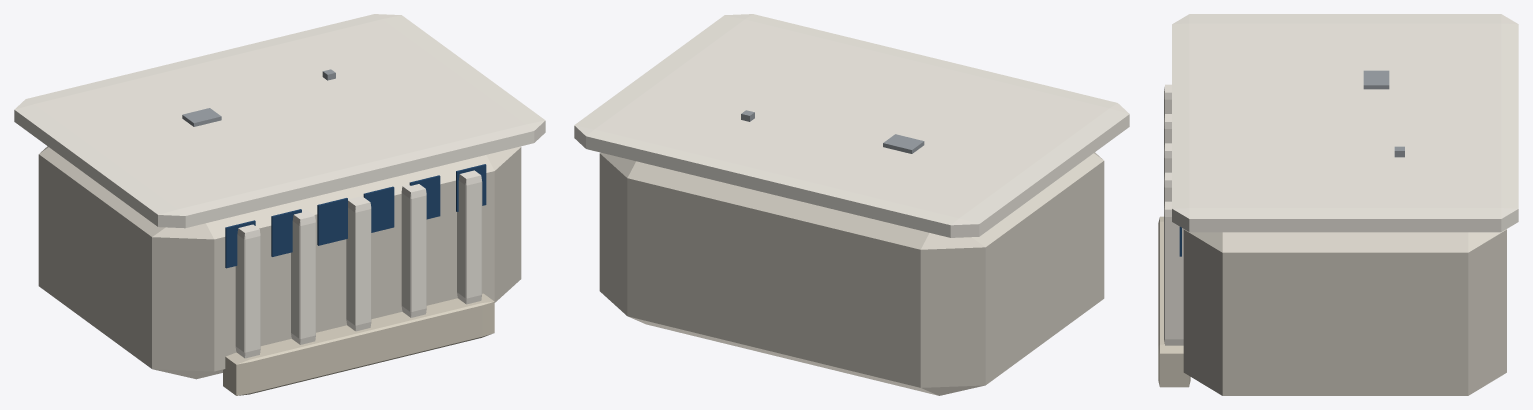
Rendered from library.glb.
3 views of the same model, side by side, from view 1: azimuth 30°, elevation 25°; view 2: azimuth 150°, elevation 25°; view 3: azimuth 270°, elevation 25° (orthographic). The views are drawn at different scales.
Visible parts, largest first — view 1: cornice, walls, steps, col.15228, col.15229, col.15227, col.15225, col.15226, win.002, win.003, win.001, win.004 (+3 smaller); view 2: walls, cornice, hvac; view 3: cornice, walls, col.15229, steps, hvac.
Part boxes in pixels (left/top/right/bottom): cornice: left=14, top=14, right=545, bottom=228; walls: left=38, top=146, right=521, bottom=379; steps: left=223, top=293, right=494, bottom=395; col.15228: left=401, top=184, right=426, bottom=317; col.15229: left=457, top=170, right=482, bottom=304; col.15227: left=346, top=196, right=371, bottom=331; col.15225: left=235, top=224, right=260, bottom=358; col.15226: left=291, top=209, right=315, bottom=344; win.002: left=317, top=198, right=347, bottom=245; win.003: left=363, top=186, right=394, bottom=232; win.001: left=271, top=209, right=301, bottom=256; win.004: left=409, top=175, right=440, bottom=219; walls: left=599, top=152, right=1104, bottom=395; cornice: left=574, top=14, right=1129, bottom=237; hvac: left=883, top=134, right=924, bottom=153; cornice: left=1172, top=14, right=1518, bottom=232; walls: left=1183, top=229, right=1506, bottom=395; col.15229: left=1164, top=201, right=1183, bottom=345; steps: left=1158, top=216, right=1190, bottom=387; hvac: left=1363, top=70, right=1389, bottom=89.
Size of the model in its own units: 21 by 10.1 by 15.6.
